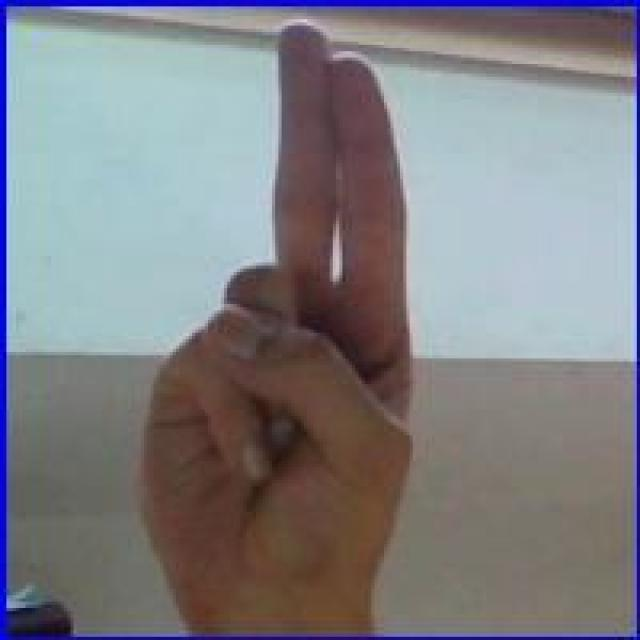U: (144, 14, 406, 604)
